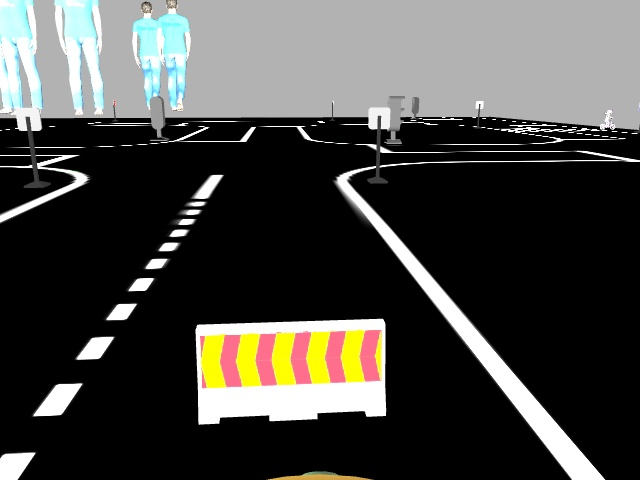ClosedRoadStand: (196, 325, 386, 416)
